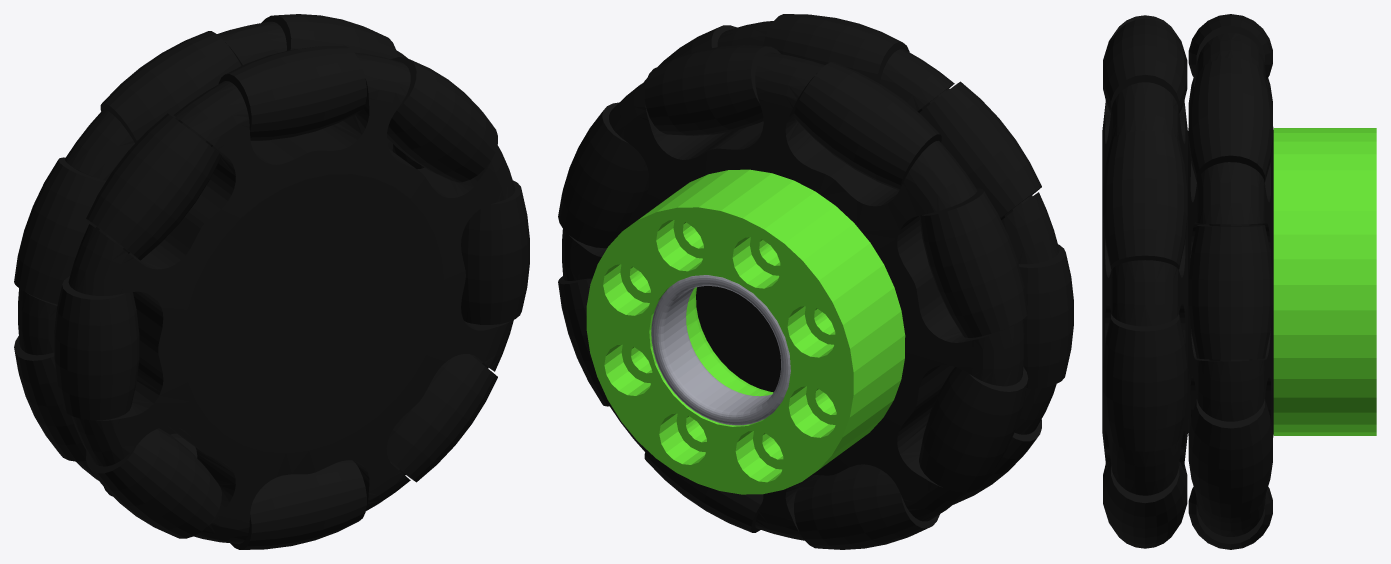
The model's file is foldy_base_05_omniwheel_link.dae.
The picture shows the model from 3 angles, left to right: view 1: azimuth 30°, elevation 25°; view 2: azimuth 150°, elevation 25°; view 3: azimuth 270°, elevation 25°; orthographic projection.
Visible parts, largest first — view 1: Rota_Assem_02_-_Rota_125_03-1_-_Rota_125_03-1; view 2: Rota_Assem_02_-_Rota_125_03-1_-_Rota_125_03-1, Rota_Assem_02_-_Rota_125_03-1_-_GP32_Bearing_Mount_05-1, Rota_Assem_02_-_Rota_125_03-1_-_1_25_Needle-1; view 3: Rota_Assem_02_-_Rota_125_03-1_-_Rota_125_03-1, Rota_Assem_02_-_Rota_125_03-1_-_GP32_Bearing_Mount_05-1.
Part boxes in pixels (left/top/right/bottom): Rota_Assem_02_-_Rota_125_03-1_-_Rota_125_03-1: left=14, top=14, right=529, bottom=549; Rota_Assem_02_-_Rota_125_03-1_-_Rota_125_03-1: left=558, top=14, right=1073, bottom=549; Rota_Assem_02_-_Rota_125_03-1_-_GP32_Bearing_Mount_05-1: left=586, top=169, right=905, bottom=494; Rota_Assem_02_-_Rota_125_03-1_-_1_25_Needle-1: left=651, top=275, right=790, bottom=425; Rota_Assem_02_-_Rota_125_03-1_-_Rota_125_03-1: left=1102, top=14, right=1273, bottom=549; Rota_Assem_02_-_Rota_125_03-1_-_GP32_Bearing_Mount_05-1: left=1273, top=128, right=1376, bottom=435.
Size of the model in its own units: 0.1248 by 0.064 by 0.1248.
